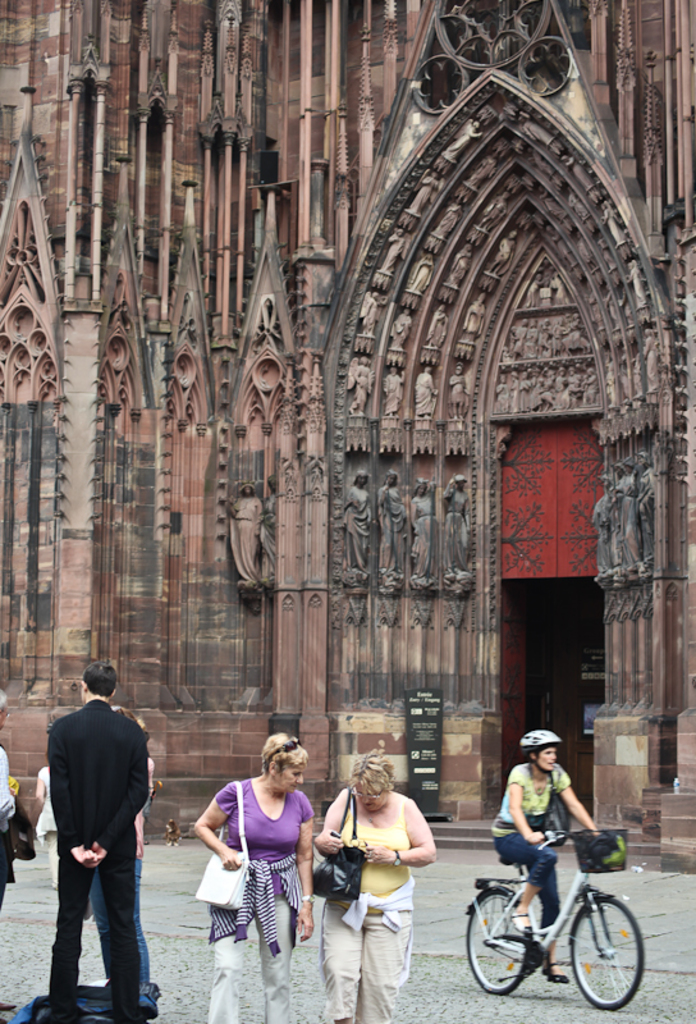Bike: (468, 830, 651, 1008)
